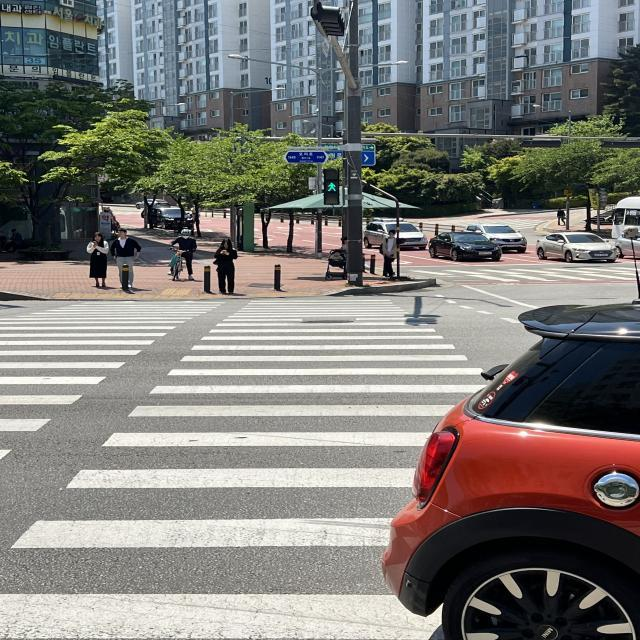crosswalk: (0, 285, 640, 640)
geen-crossing: (320, 170, 348, 206)
